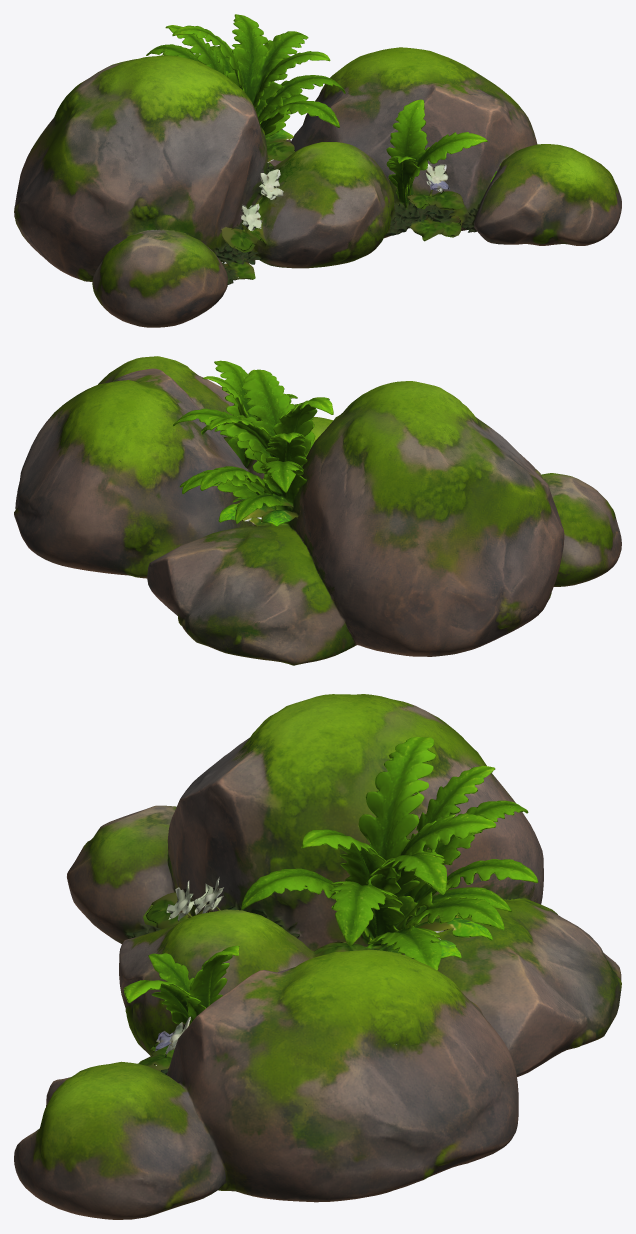
File: map-riverbank-rock-cluster.glb
3 renders of one model, top to bottom at view 1: azimuth 30°, elevation 25°; view 2: azimuth 150°, elevation 25°; view 3: azimuth 270°, elevation 25°, orthographic. The views are drawn at different scales.
Bounding box in the file's own units: 0.9974 × 0.351 × 0.7338.
Materials: 1 (1 with a texture image).
